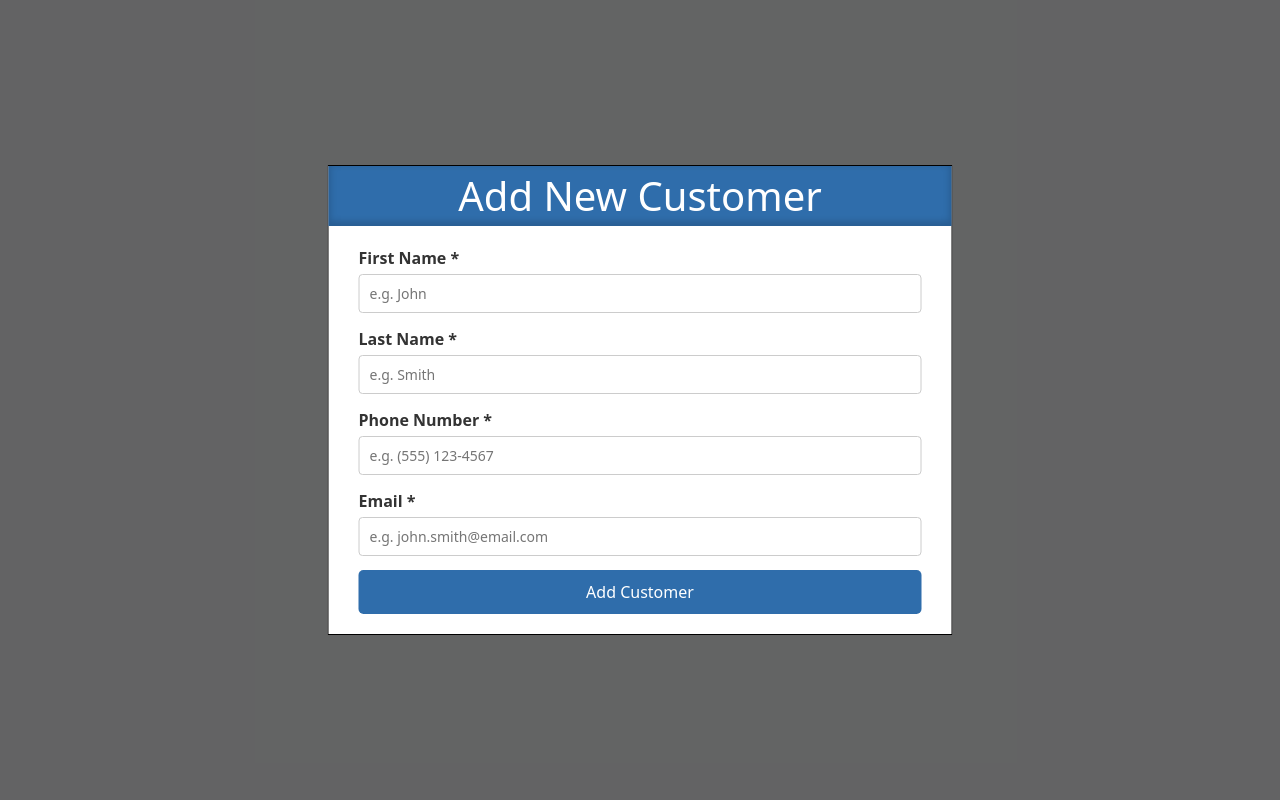
it: AdminNewCustomer › shows validation placeholders when submitting empty form
Step 1. Click the button "Add Customer" → (640, 592), box [358, 570, 922, 614]
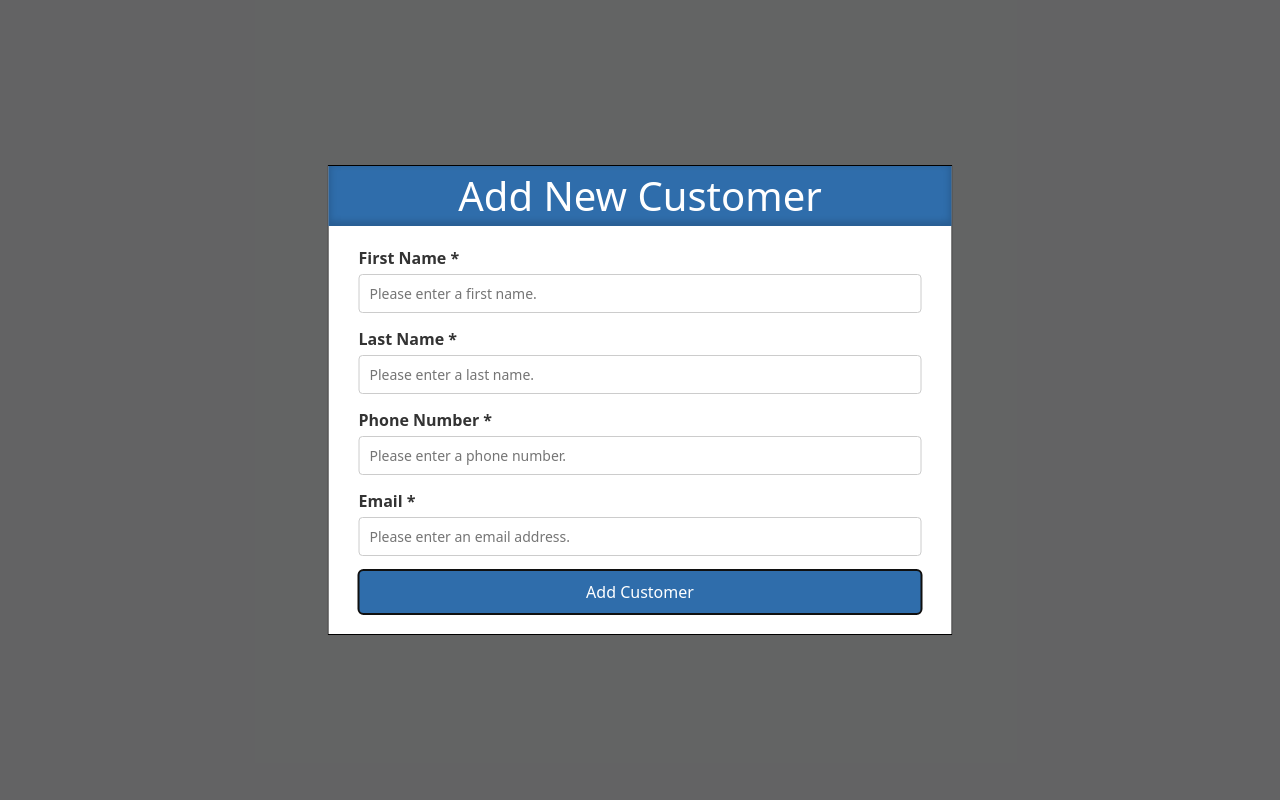
Expected: the field with placeholder "Please enter a first name." is shown, [358, 274, 922, 313]
Expected: the field with placeholder "Please enter a last name." is shown, [358, 355, 922, 394]
Expected: the field with placeholder "Please enter a phone number." is shown, [358, 436, 922, 475]
